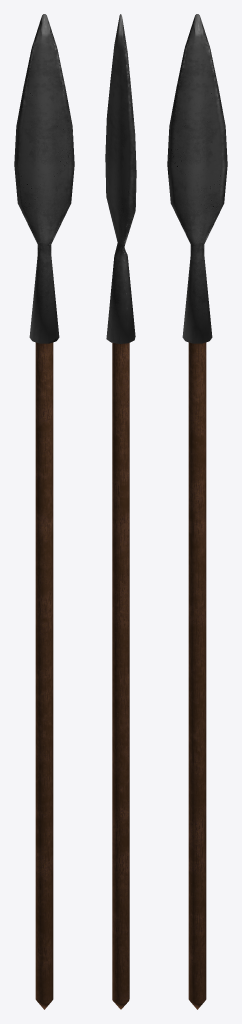
Rendered from Spear.fbx.
3 renders of one model, left to right at view 1: azimuth 90°, elevation 25°; view 2: azimuth 210°, elevation 25°; view 3: azimuth 270°, elevation 25°, orthographic.
Parts seen in each view (by area): view 1: Spear; view 2: Spear; view 3: Spear.
Boxes of the visible parts, box(x1,y1,x2,y2) form: Spear: box(14, 14, 74, 1009); Spear: box(105, 14, 136, 1009); Spear: box(167, 14, 227, 1009).
Size of the model in its own units: 0.0543 by 2.1 by 0.1156.
